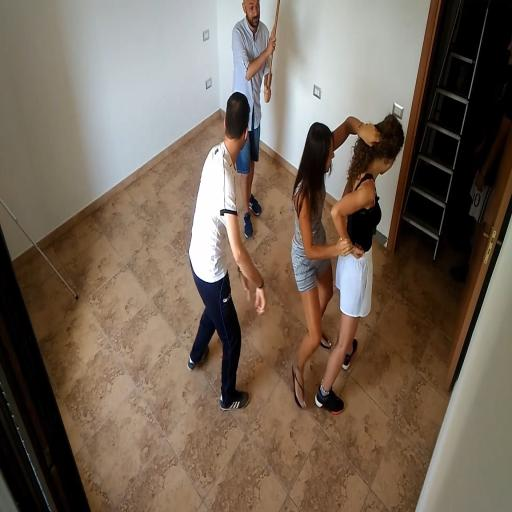empurrar: (288, 104, 413, 424)
